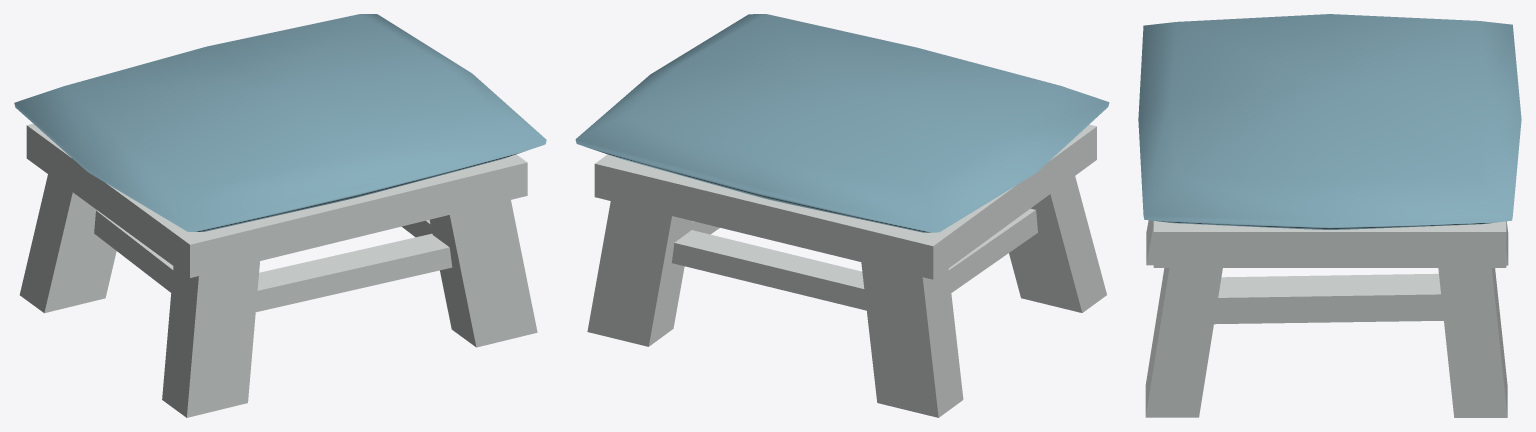
The picture shows the model from 3 angles, left to right: view 1: azimuth 30°, elevation 25°; view 2: azimuth 150°, elevation 25°; view 3: azimuth 270°, elevation 25°; orthographic projection. The views are drawn at different scales.
Visible parts, largest first — view 1: G:\FFXIV-MapTools\exports\e3ec\bg\ex2\02_est_e3\evt\e3ec\bgp (×2); view 2: G:\FFXIV-MapTools\exports\e3ec\bg\ex2\02_est_e3\evt\e3ec\bgp (×2); view 3: G:\FFXIV-MapTools\exports\e3ec\bg\ex2\02_est_e3\evt\e3ec\bgp (×2).
Boxes of the visible parts, x1,y1,x2,y2 form: G:\FFXIV-MapTools\exports\e3ec\bg\ex2\02_est_e3\evt\e3ec\bgp (×2): (14,14,546,417); G:\FFXIV-MapTools\exports\e3ec\bg\ex2\02_est_e3\evt\e3ec\bgp (×2): (575,14,1109,417); G:\FFXIV-MapTools\exports\e3ec\bg\ex2\02_est_e3\evt\e3ec\bgp (×2): (1138,14,1521,417).
Bounding box in the file's own units: 0.9243 × 0.5078 × 0.7373.
